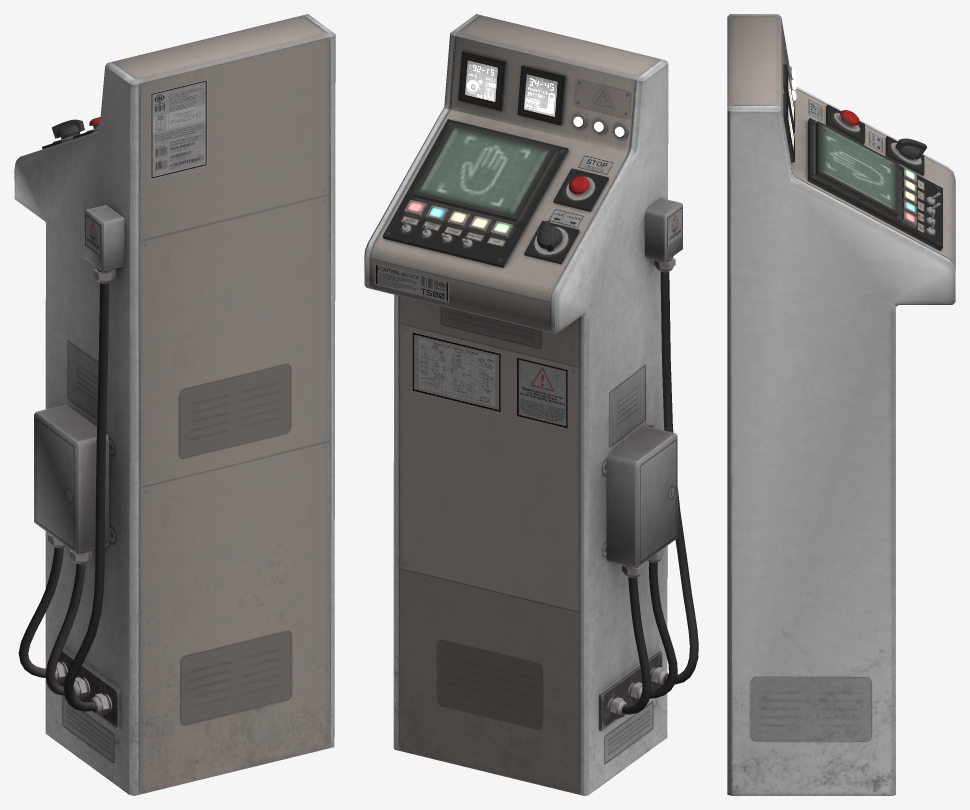
Rendered from SM_AssemblyLineControl01.fbx.
3 renders of one model, left to right at view 1: azimuth 30°, elevation 25°; view 2: azimuth 150°, elevation 25°; view 3: azimuth 270°, elevation 25°, orthographic. The views are drawn at different scales.
Parts seen in each view (by area): view 1: SM_AssemblyLineControl01_LOD0; view 2: SM_AssemblyLineControl01_LOD0; view 3: SM_AssemblyLineControl01_LOD0.
Boxes of the visible parts, x1,y1,x2,y2 form: SM_AssemblyLineControl01_LOD0: [14, 14, 335, 795]; SM_AssemblyLineControl01_LOD0: [364, 14, 698, 795]; SM_AssemblyLineControl01_LOD0: [727, 14, 955, 795].
Size of the model in its own units: 61.48 by 49.78 by 165.
